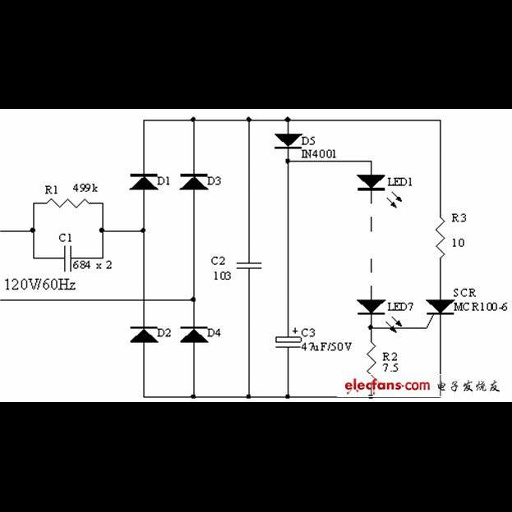capacitor: (234, 257, 265, 274), (59, 243, 74, 272)
firstdiode: (124, 170, 159, 196), (125, 323, 158, 349), (176, 170, 209, 195), (178, 324, 209, 347), (270, 131, 303, 151)
firstled: (347, 171, 405, 211), (351, 297, 403, 334)
secondpolarcapacitor: (273, 326, 303, 350)
secondresistance: (44, 195, 92, 212), (361, 338, 380, 379), (434, 212, 448, 265)
